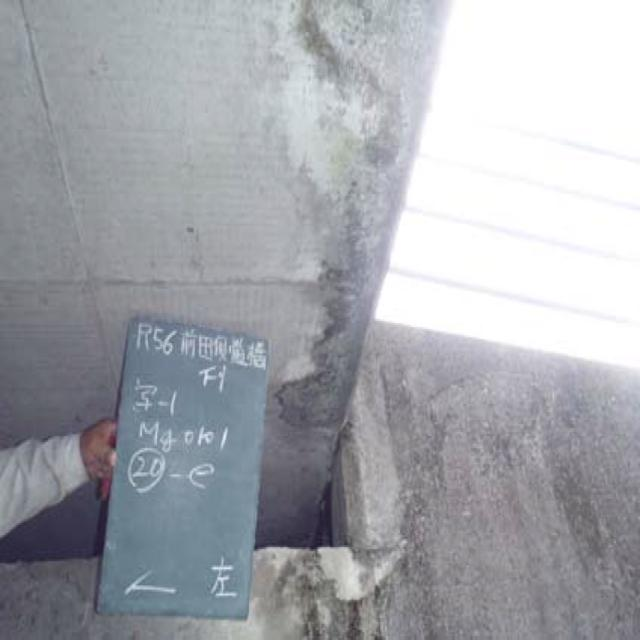leakage: (302, 56, 384, 454)
